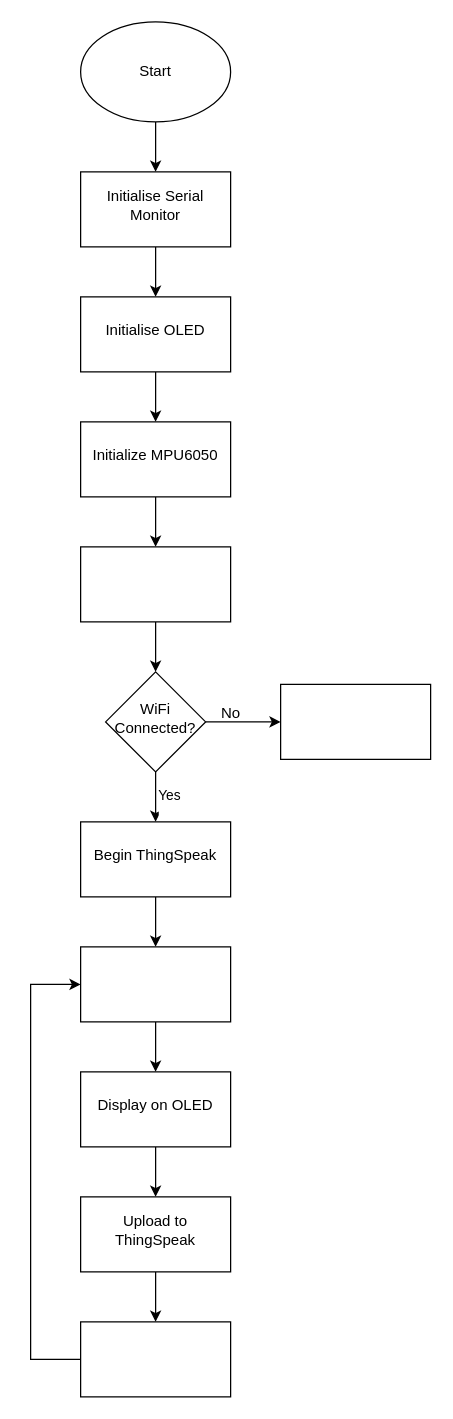
This 453x1419 diagram has some shape labels left out. Here are the shapes that lost their labels. From the top down, the centre of each, then its label:
point 155,584: Connect to WiFi
point 355,721: Show Error & Halt
point 155,984: Read Accel & Gyro values
point 155,1359: Wait 20 seconds
